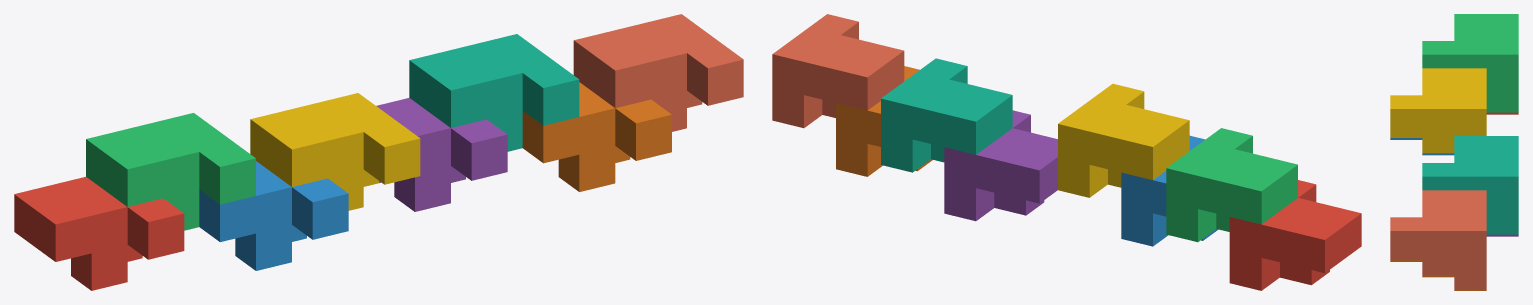
Rendered from tiling.obj.
3 views of the same model, side by side, from view 1: azimuth 30°, elevation 25°; view 2: azimuth 150°, elevation 25°; view 3: azimuth 270°, elevation 25° (orthographic). The views are drawn at different scales.
Visible parts, largest first — view 1: copy_1_domain_4, copy_1_domain_8, copy_1_domain_7, copy_1_domain_3, copy_1_domain_1, copy_1_domain_6, copy_1_domain_2, copy_1_domain_5; view 2: copy_1_domain_3, copy_1_domain_7, copy_1_domain_8, copy_1_domain_4, copy_1_domain_1, copy_1_domain_5, copy_1_domain_2, copy_1_domain_6; view 3: copy_1_domain_8, copy_1_domain_4, copy_1_domain_3, copy_1_domain_7, copy_1_domain_6, copy_1_domain_2, copy_1_domain_1, copy_1_domain_5.
Boxes of the visible parts, bbox=[...] form: copy_1_domain_4: bbox=[250, 93, 420, 210]; copy_1_domain_8: bbox=[573, 14, 743, 131]; copy_1_domain_7: bbox=[409, 34, 579, 151]; copy_1_domain_3: bbox=[86, 113, 255, 230]; copy_1_domain_1: bbox=[14, 176, 184, 290]; copy_1_domain_6: bbox=[522, 82, 671, 191]; copy_1_domain_2: bbox=[199, 161, 348, 270]; copy_1_domain_5: bbox=[376, 98, 507, 211]; copy_1_domain_3: bbox=[1166, 128, 1297, 242]; copy_1_domain_7: bbox=[881, 58, 1012, 172]; copy_1_domain_8: bbox=[772, 14, 904, 128]; copy_1_domain_4: bbox=[1058, 83, 1189, 197]; copy_1_domain_1: bbox=[1229, 180, 1361, 290]; copy_1_domain_5: bbox=[944, 110, 1057, 221]; copy_1_domain_2: bbox=[1121, 135, 1218, 246]; copy_1_domain_6: bbox=[836, 66, 932, 176]; copy_1_domain_8: bbox=[1390, 190, 1486, 288]; copy_1_domain_4: bbox=[1390, 68, 1486, 153]; copy_1_domain_3: bbox=[1422, 14, 1518, 112]; copy_1_domain_7: bbox=[1422, 136, 1518, 234]; copy_1_domain_6: bbox=[1390, 260, 1486, 290]; copy_1_domain_2: bbox=[1390, 138, 1454, 155]; copy_1_domain_1: bbox=[1486, 112, 1518, 114]; copy_1_domain_5: bbox=[1486, 234, 1518, 236].
Size of the model in its own units: 18 by 3 by 4.
